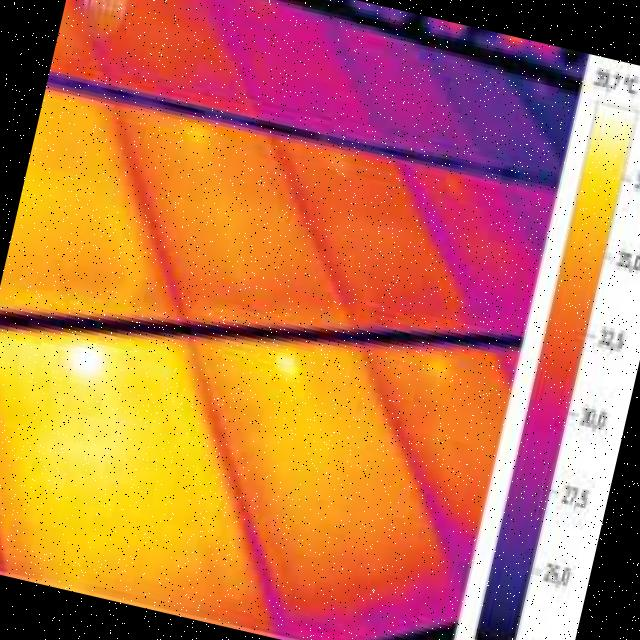Hotspot: (48, 324, 136, 398), (270, 340, 308, 383)
